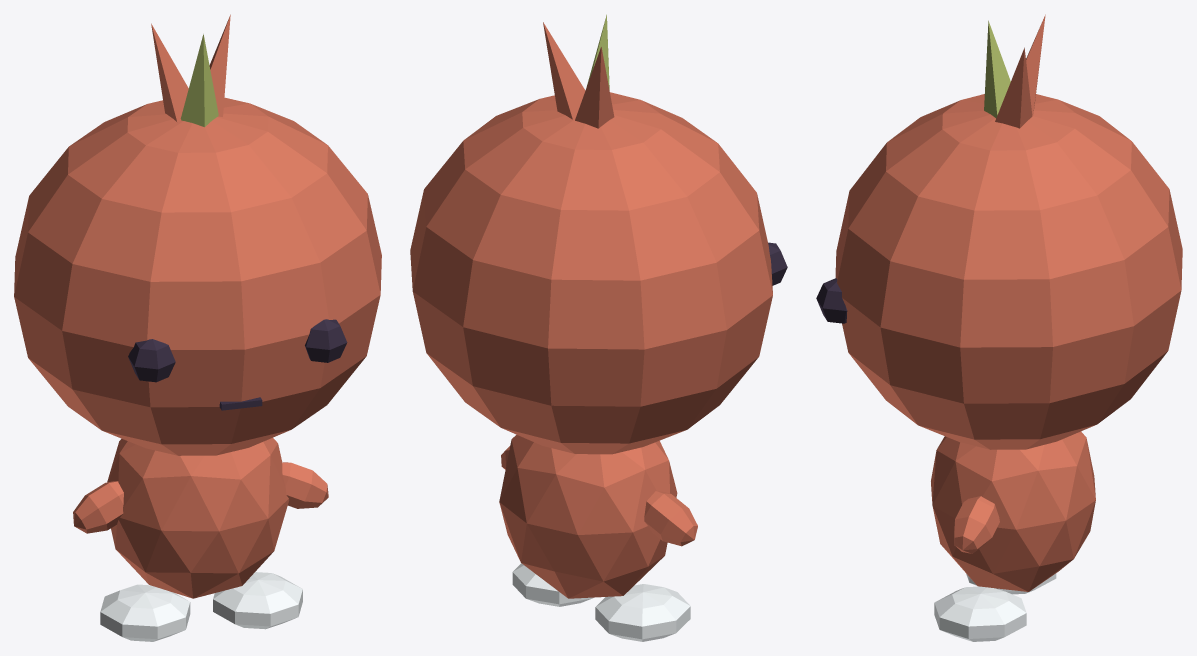
Rendered from biped-park-2.glb.
3 views of the same model, side by side, from view 1: azimuth 30°, elevation 25°; view 2: azimuth 150°, elevation 25°; view 3: azimuth 270°, elevation 25° (orthographic).
Visible parts, largest first — view 1: biped-park-2; view 2: biped-park-2; view 3: biped-park-2.
Part boxes in pixels (x1=…): biped-park-2: x1=14, y1=14, x2=381, y2=641; biped-park-2: x1=410, y1=14, x2=787, y2=641; biped-park-2: x1=816, y1=14, x2=1182, y2=641.
Bounding box in the file's own units: 0.5027 × 0.9 × 0.507.
